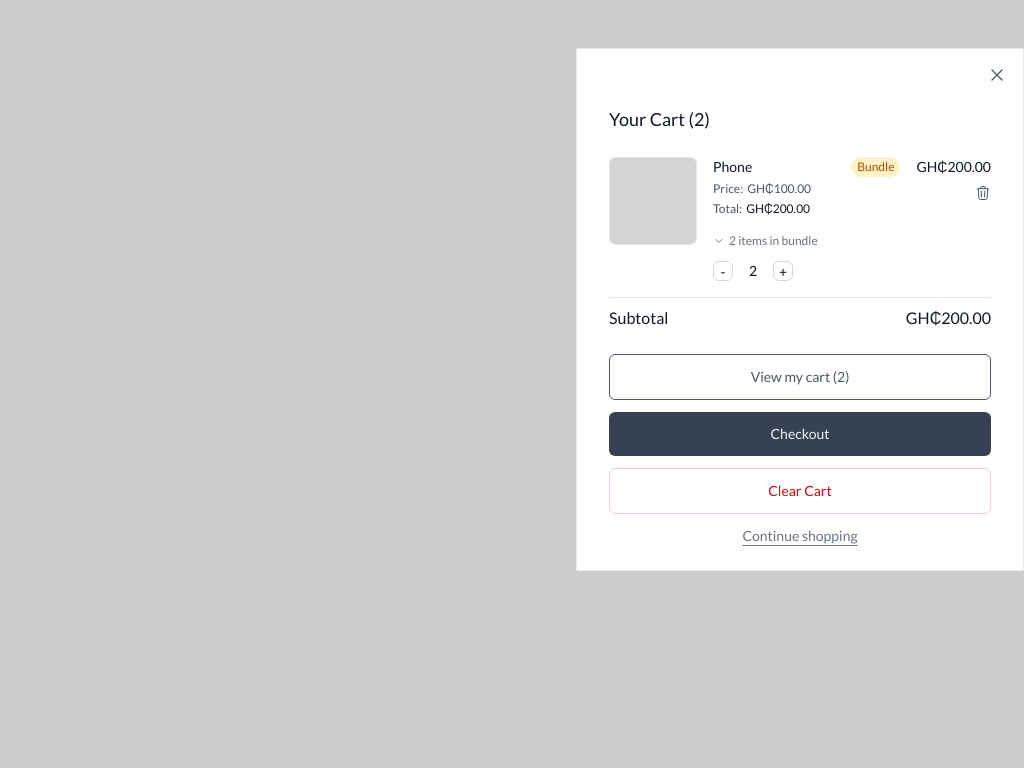
Test: Cart › expands bundle items on demand
This screenshot has width=1024, height=768.
Expected: the text "Case" is not shown
Click the button "2 items in bundle": (765, 241) [713, 233, 818, 249]
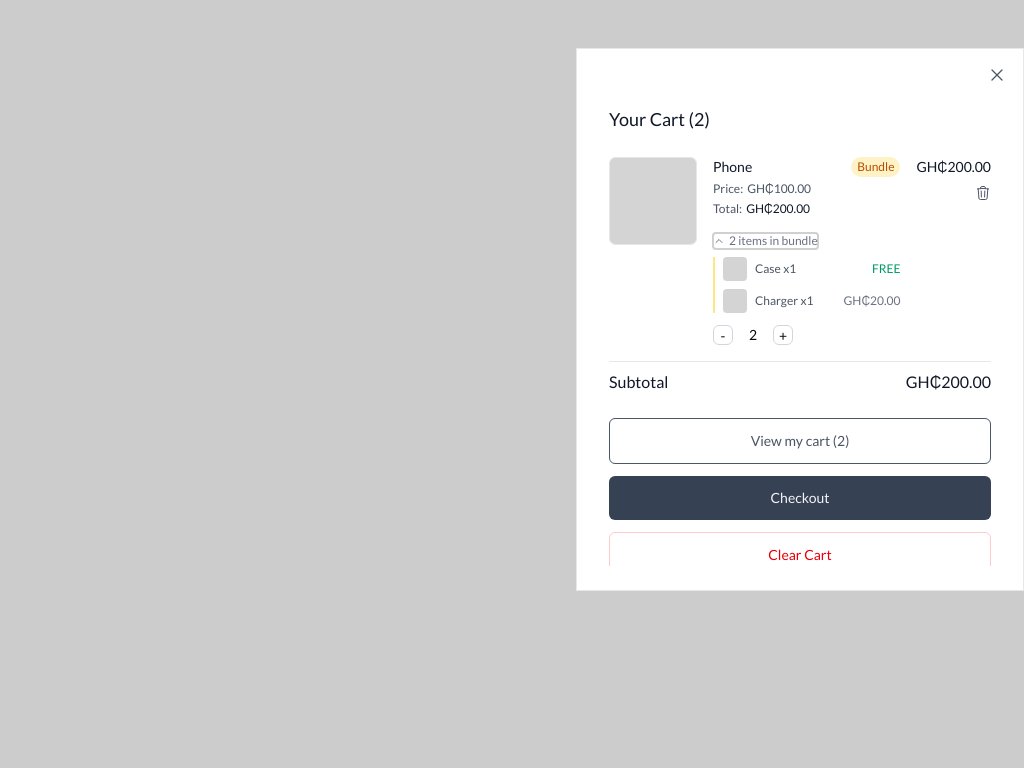
Expected: the text "Case x1" is shown, [755, 261, 796, 277]
Expected: the text "FREE" is shown, [872, 261, 900, 277]
